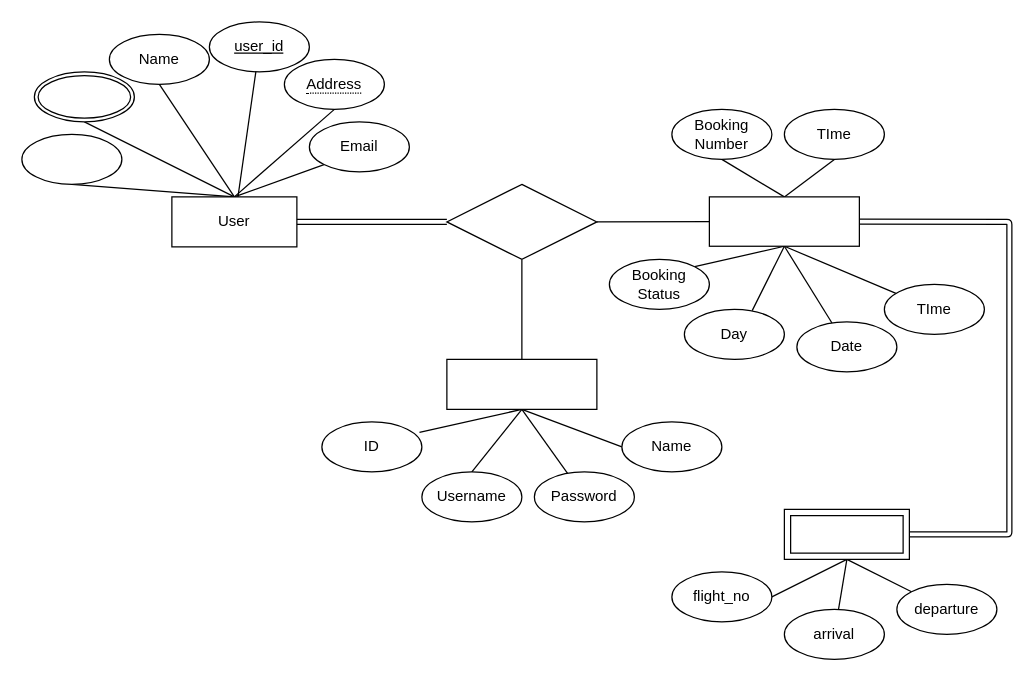
Image size: 1034x681. Some labels were removed from this diagram. Each missing label, with the box of its shape:
Admin: (446, 358, 597, 409)
flight: (783, 508, 909, 559)
Gender: (21, 133, 122, 184)
phone_no: (33, 71, 134, 122)
registers: (446, 183, 597, 259)
reservation system: (708, 196, 859, 246)
